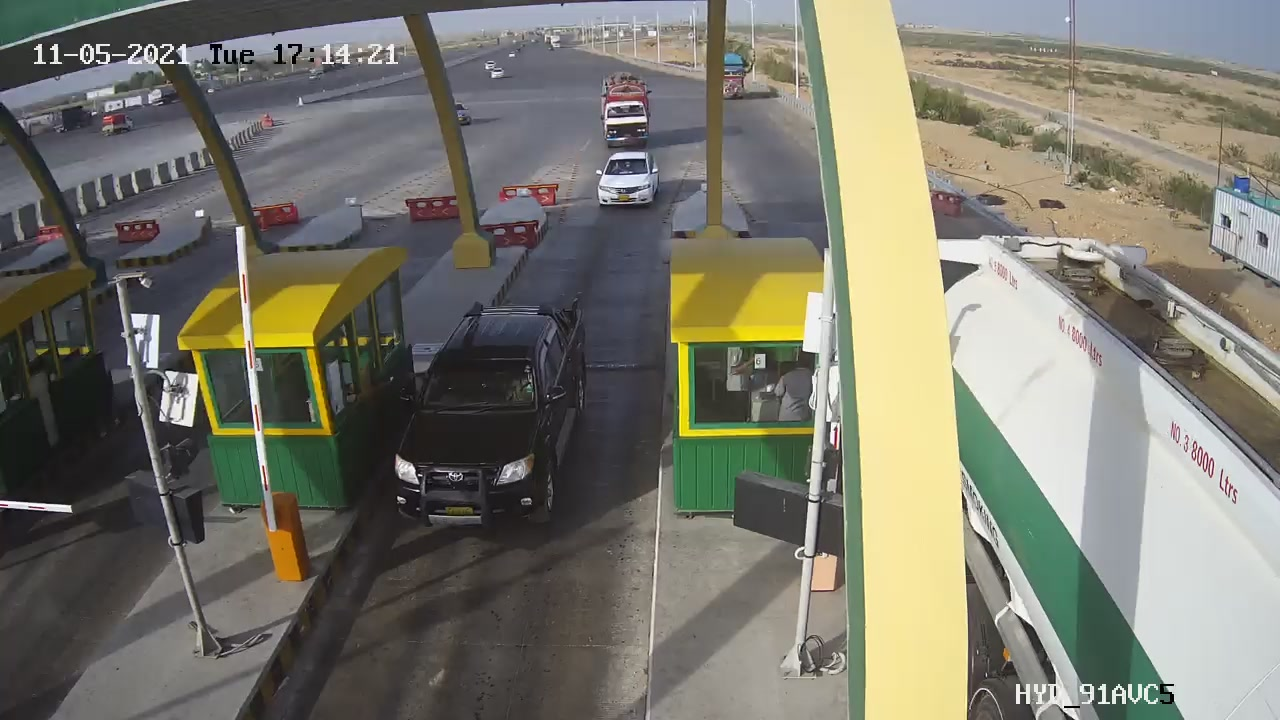F1: (359, 285, 616, 546)
